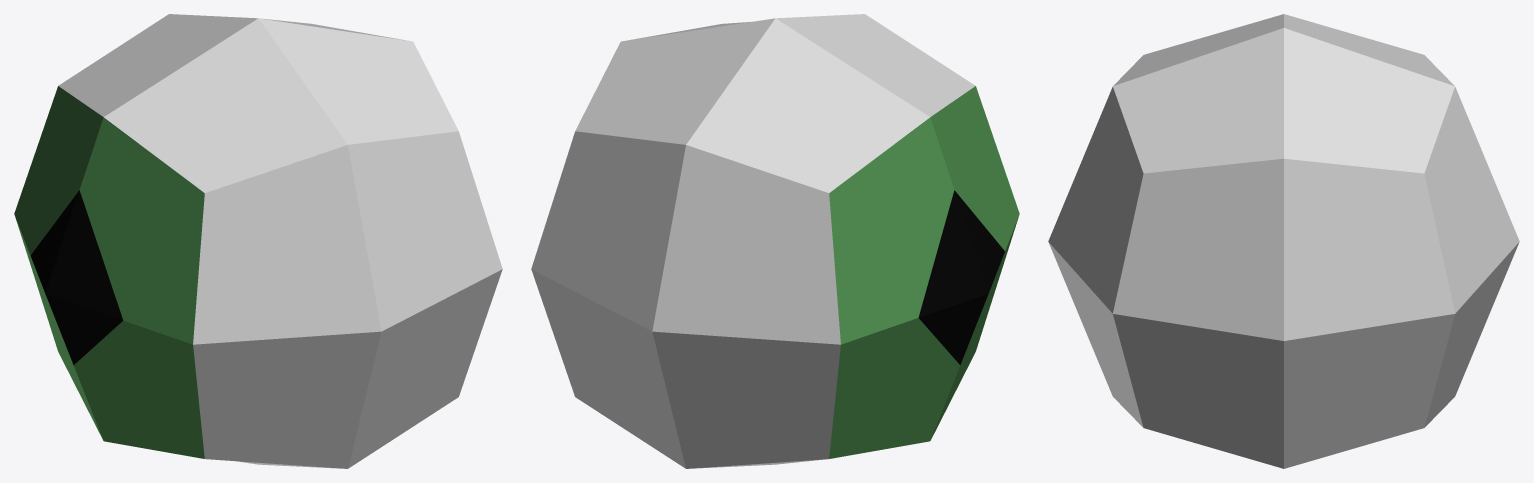
File: eye_solo.glb
3 views of the same model, side by side, from view 1: azimuth 30°, elevation 25°; view 2: azimuth 150°, elevation 25°; view 3: azimuth 270°, elevation 25° (orthographic). The views are drawn at different scales.
Parts seen in each view (by area): view 1: Cube.015; view 2: Cube.015; view 3: Cube.015.
Part boxes in pixels (bbox=[...]): Cube.015: bbox=[14, 14, 502, 468]; Cube.015: bbox=[531, 14, 1019, 468]; Cube.015: bbox=[1048, 14, 1519, 468].
Size of the model in its own units: 0.041 by 0.041 by 0.041.
